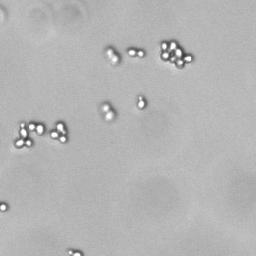budding: (130, 88, 151, 113), (98, 100, 117, 123), (102, 44, 121, 67), (126, 44, 147, 60), (65, 245, 86, 256)
cluster: (157, 35, 197, 74), (8, 111, 48, 150), (48, 113, 68, 150)
individual: (1, 197, 11, 215)
